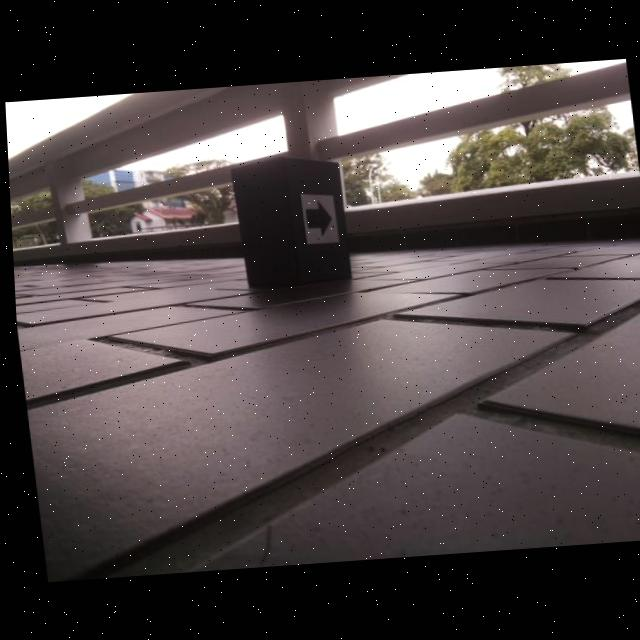RIGHT: (302, 198, 331, 240)
